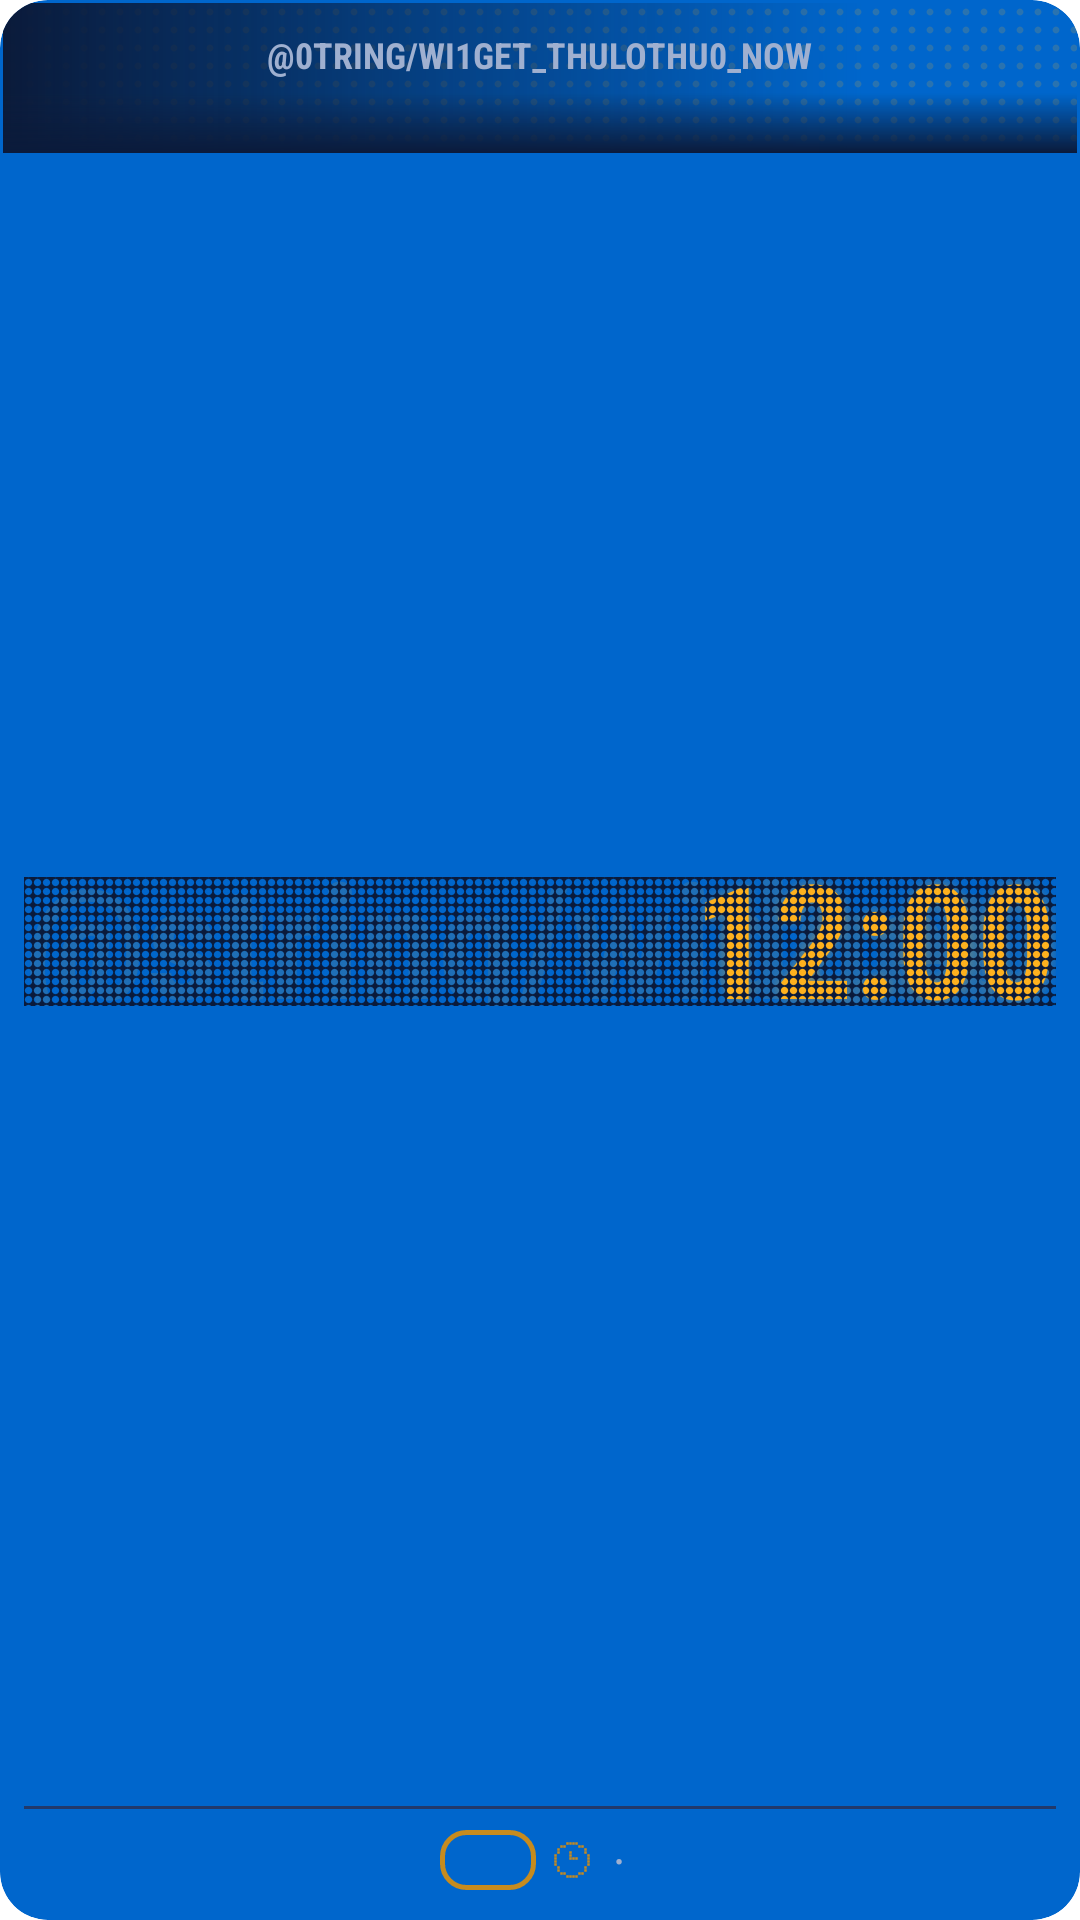

Icons on this 1080x1920 Android screen, each with the point to tap as (x,y):
widget clock dim: (572,1860)
